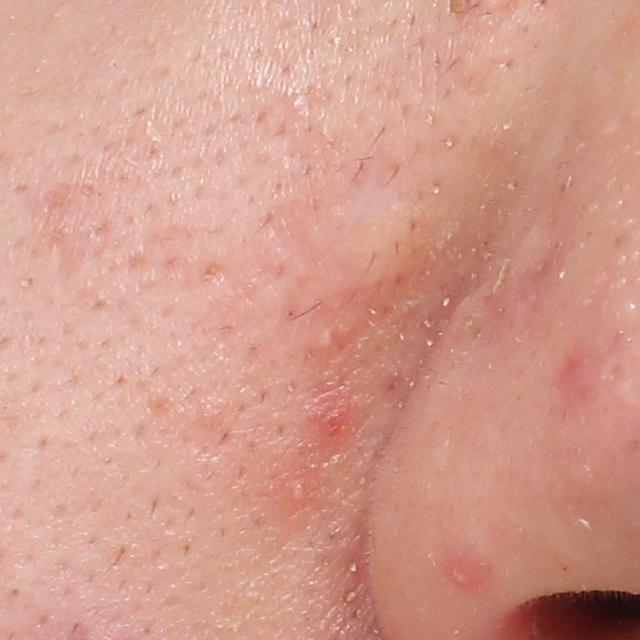atrophic_scar: (158, 404, 230, 455), (198, 260, 229, 289)
comedo: (288, 92, 309, 110)
hypertrophic_scar: (329, 170, 473, 291)
papule: (443, 555, 481, 590)
pustule: (278, 472, 310, 508), (314, 322, 339, 354)
